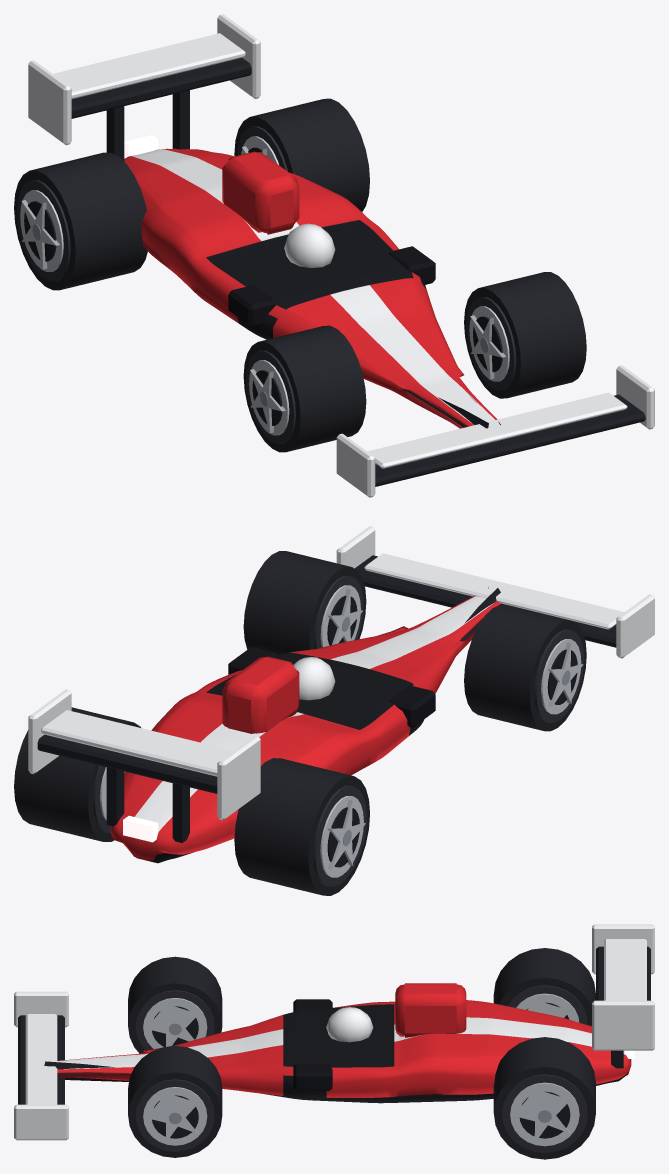
Rendered from racecar_red.glb.
The picture shows the model from 3 angles, top to bottom: view 1: azimuth 30°, elevation 25°; view 2: azimuth 150°, elevation 25°; view 3: azimuth 270°, elevation 25°; orthographic projection. The views are drawn at different scales.
Visible parts, largest first — view 1: body, wheel_rl, wheel_fr, wheel_fl, wheel_rr; view 2: body, wheel_rl, wheel_fl, wheel_fr, wheel_rr; view 3: body, wheel_rr, wheel_fr, wheel_fl, wheel_rl.
Boxes of the visible parts, x1,y1,x2,y2 form: body: [28, 14, 654, 497]; wheel_rl: [14, 152, 147, 290]; wheel_fr: [464, 272, 586, 398]; wheel_fl: [243, 325, 366, 452]; wheel_rr: [234, 98, 369, 211]; body: [28, 526, 654, 863]; wheel_rl: [234, 758, 369, 895]; wheel_fl: [464, 604, 586, 731]; wheel_fr: [243, 551, 366, 654]; wheel_rr: [14, 707, 140, 841]; body: [14, 924, 654, 1140]; wheel_rr: [493, 1037, 595, 1159]; wheel_fr: [128, 1046, 222, 1157]; wheel_fl: [128, 956, 222, 1053]; wheel_rl: [493, 948, 595, 1025].
Size of the model in its own units: 2.36 by 1.2 by 5.09.
